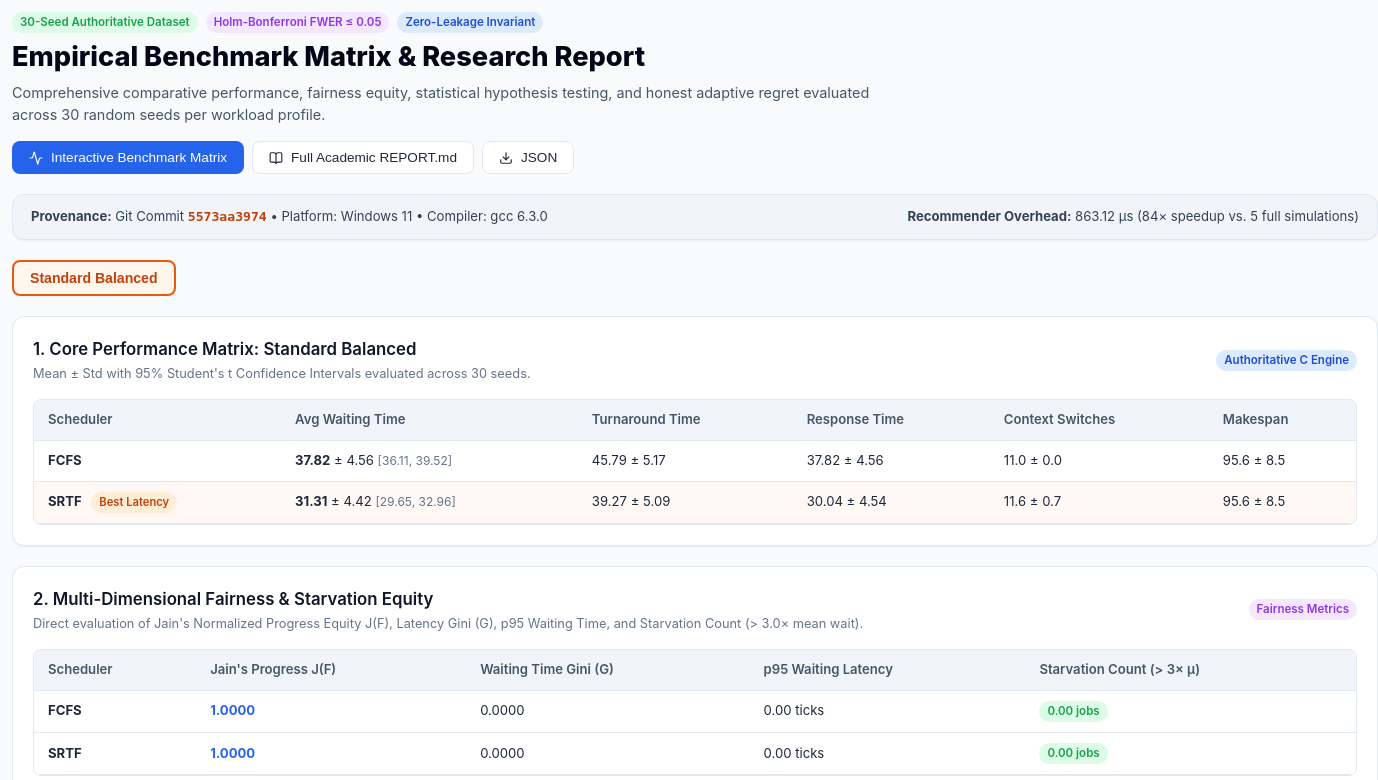
Test: Frontend Pages Integration Tests › FinalResultsPage: loads authoritative benchmark and switches between matrix and report
Check: the heading "Empirical Benchmark Matrix & Research Report" is shown, box [12,40,645,73]
Check: the text "37.82" is shown, box [295,452,330,468]
Click the button "Full Academic REPORT.md".
click(363, 158)  # box [252,141,474,174]
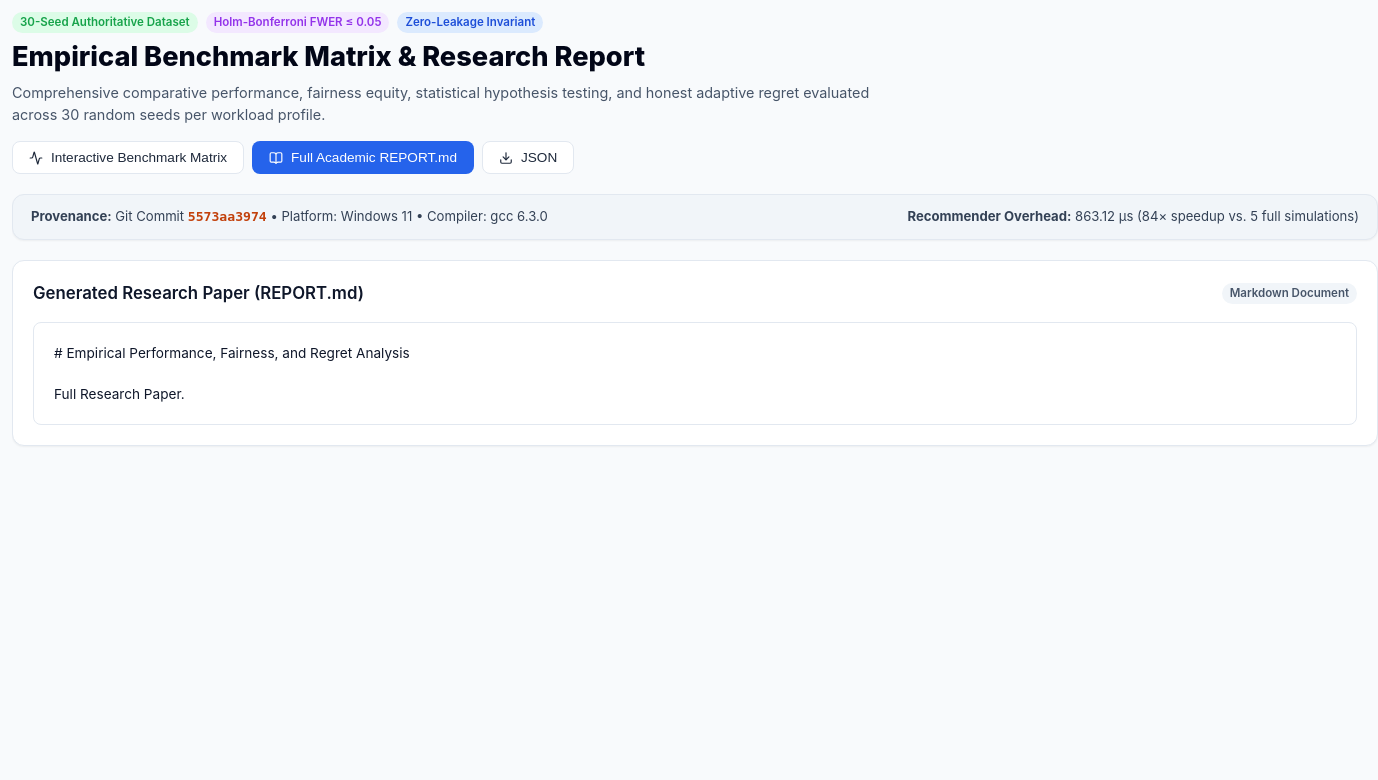
Check: the text "Generated Research Paper (REPORT.md)" is shown, box [33,281,364,306]
Check: the text "Full Research Paper" is shown, box [54,345,410,402]
